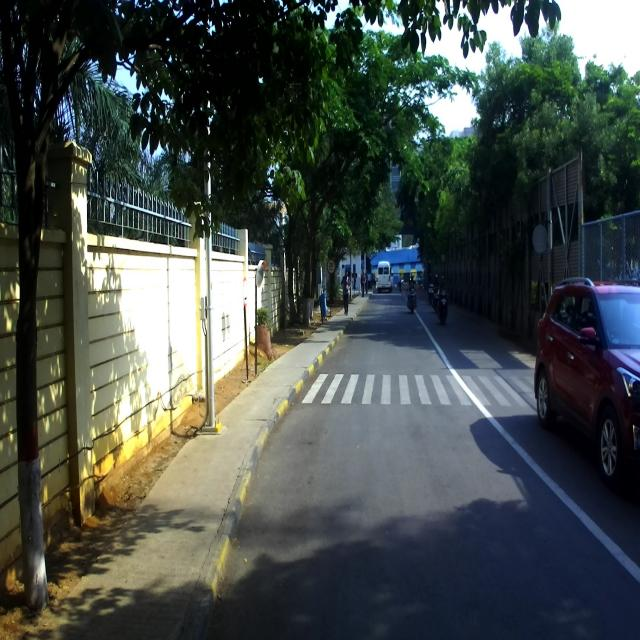Car_Hyundai: (532, 275, 640, 489)
